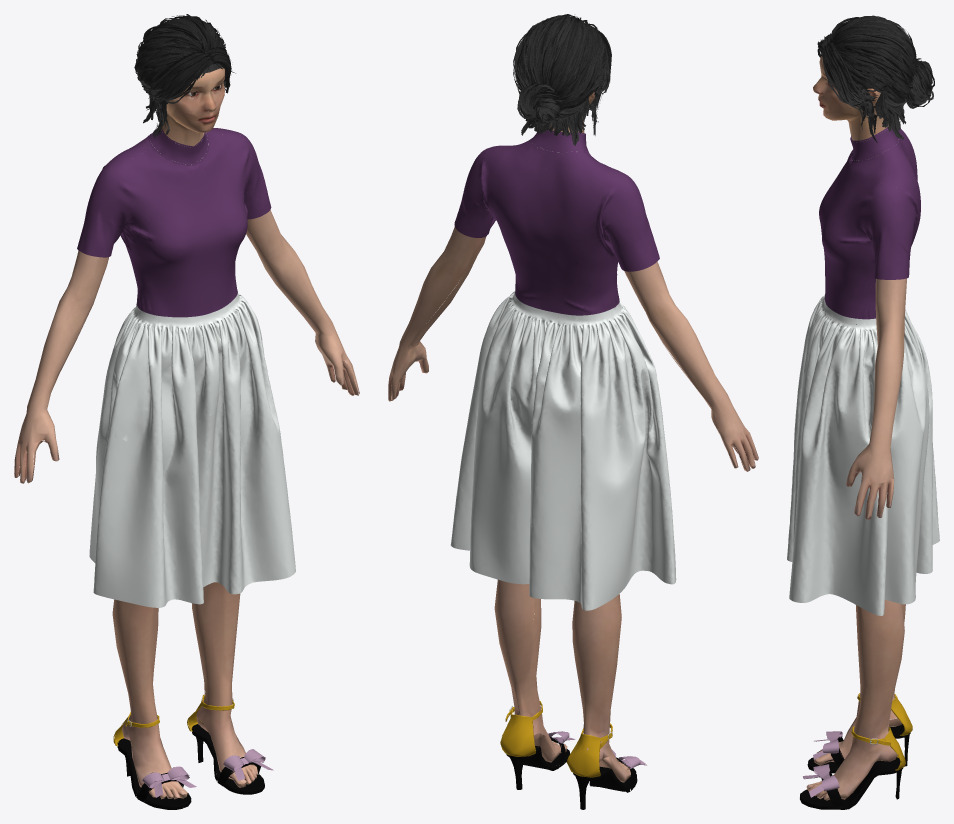
The picture shows the model from 3 angles, left to right: view 1: azimuth 30°, elevation 25°; view 2: azimuth 150°, elevation 25°; view 3: azimuth 270°, elevation 25°; orthographic projection.
Visible parts, largest first — view 1: Cloth, Avatar; view 2: Cloth, Avatar; view 3: Cloth, Avatar.
Boxes of the visible parts, left/top/right/bottom form: Cloth: left=77, top=128, right=295, bottom=607; Avatar: left=14, top=14, right=359, bottom=809; Cloth: left=450, top=128, right=676, bottom=610; Avatar: left=388, top=14, right=758, bottom=809; Cloth: left=787, top=127, right=939, bottom=615; Avatar: left=800, top=15, right=934, bottom=809.
Size of the model in its own units: 0.8096 by 1.7 by 0.307.
27 materials, 23 textured.
